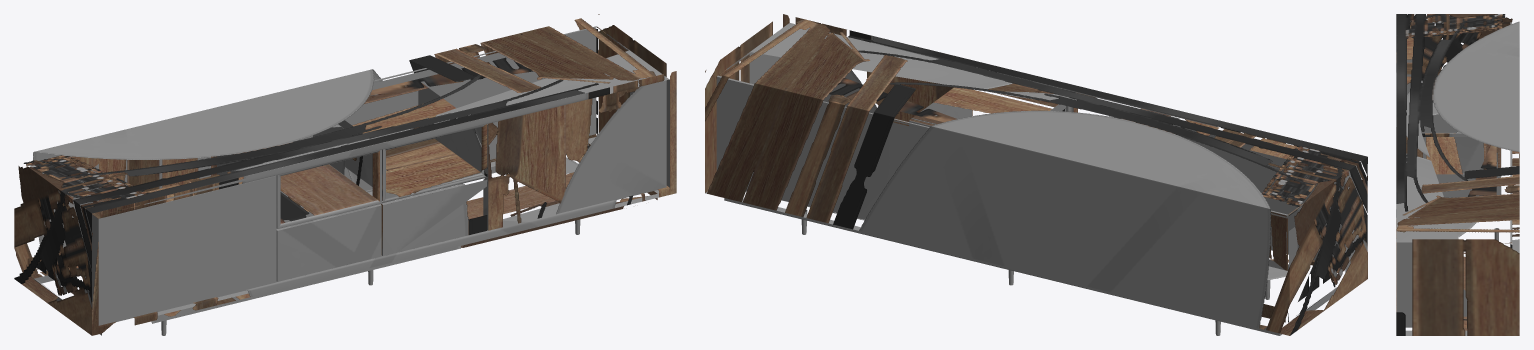
The model's file is raw_model.obj.
3 views of the same model, side by side, from view 1: azimuth 30°, elevation 25°; view 2: azimuth 150°, elevation 25°; view 3: azimuth 270°, elevation 25° (orthographic). The views are drawn at different scales.
Visible parts, largest first — view 1: solid_003, solid_002; view 2: solid_003, solid_002; view 3: solid_003.
Boxes of the visible parts, left/top/right/bottom form: solid_003: left=14, top=14, right=676, bottom=335; solid_002: left=98, top=80, right=666, bottom=325; solid_003: left=705, top=14, right=1367, bottom=335; solid_002: left=822, top=70, right=1345, bottom=264; solid_003: left=1396, top=14, right=1519, bottom=335.
Size of the model in its own units: 2.6 by 0.6501 by 0.6.
